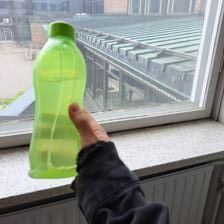bottle: (25, 20, 86, 181)
